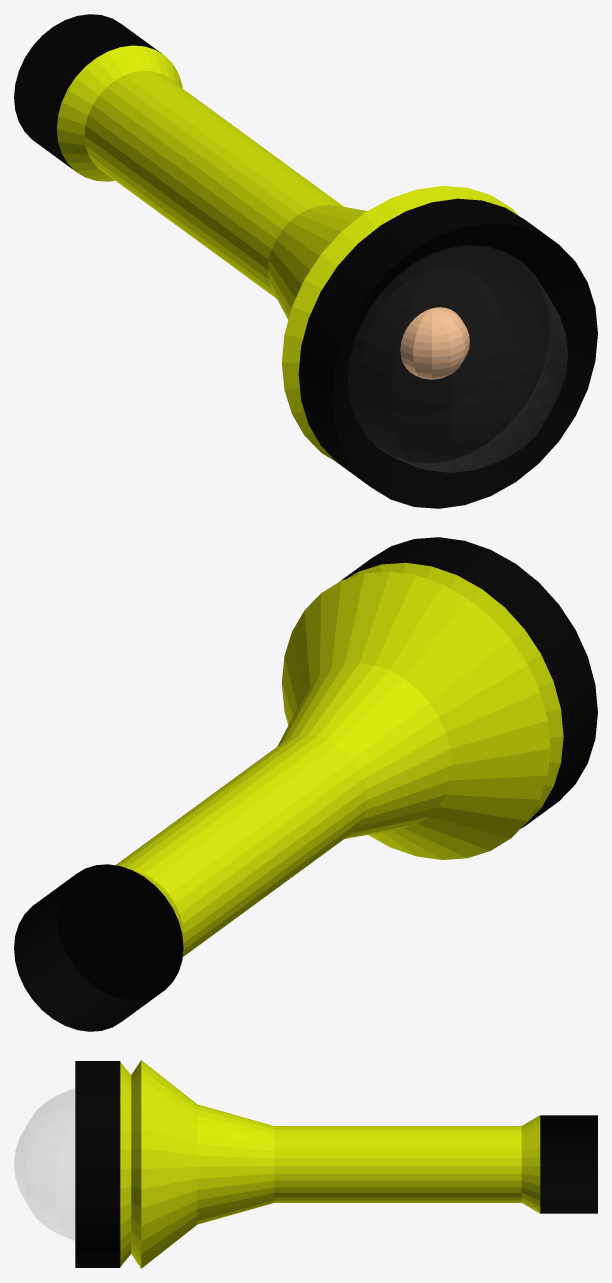
File: flashlight.fbx
3 views of the same model, one above another, from view 1: azimuth 30°, elevation 25°; view 2: azimuth 150°, elevation 25°; view 3: azimuth 270°, elevation 25° (orthographic). The views are drawn at different scales.
Visible parts, largest first — view 1: Flashlight; view 2: Flashlight; view 3: Flashlight.
Boxes of the visible parts, x1,y1,x2,y2 form: Flashlight: (14,14,597,508); Flashlight: (14,537,597,1031); Flashlight: (14,1060,597,1268).
Bounding box in the file's own units: 101 × 101 × 283.
